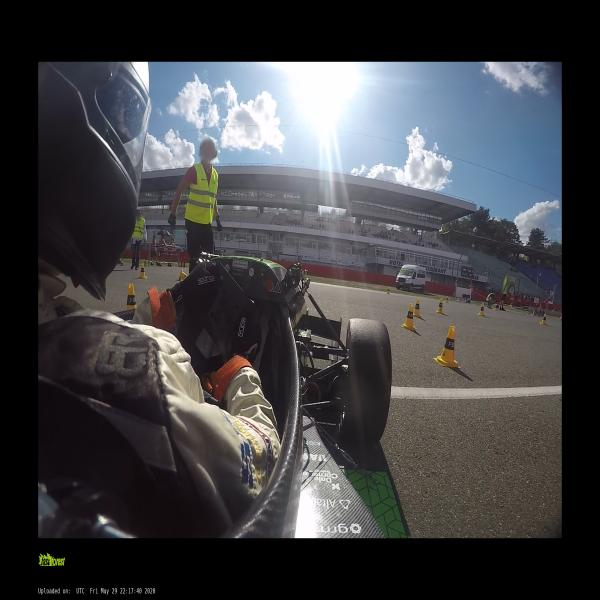yellow_cone: (436, 326, 460, 368), (402, 304, 416, 330), (127, 283, 137, 309), (412, 298, 422, 318), (435, 298, 444, 314), (178, 268, 189, 280), (139, 264, 147, 279), (478, 302, 485, 317), (540, 314, 547, 324), (444, 296, 449, 302), (386, 288, 390, 294), (494, 304, 497, 311)
